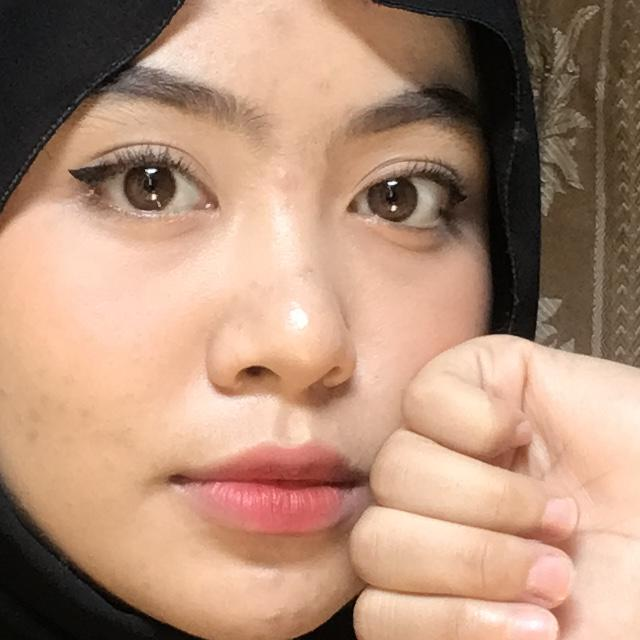sedih: (160, 166, 640, 640)
